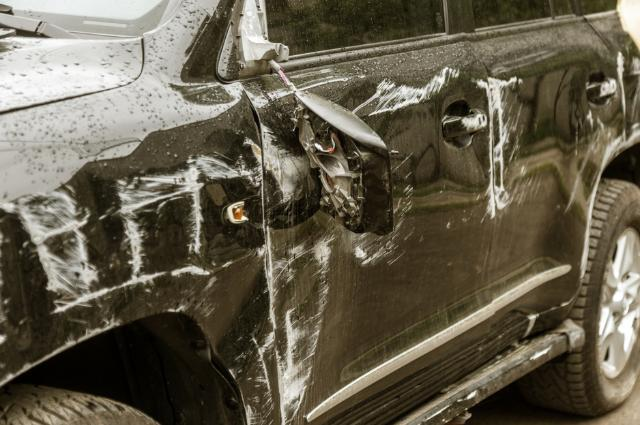Door: (266, 68, 497, 400)
Fender: (0, 127, 260, 341)
